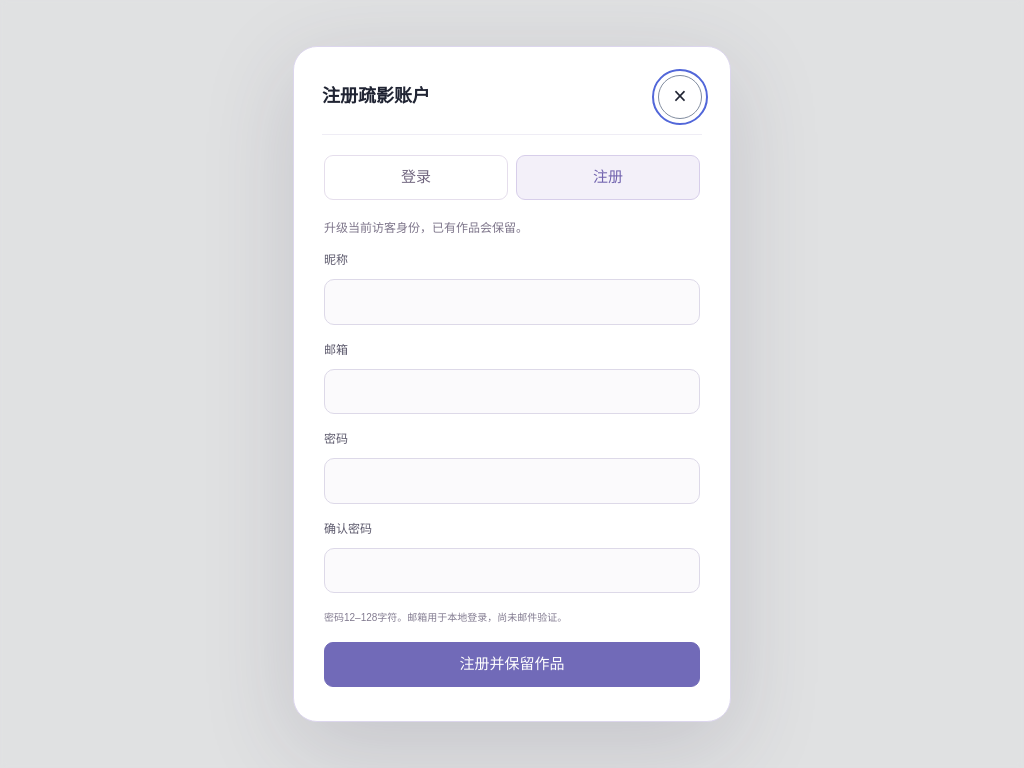
rejects mismatching confirmation before issuing registration
Type "访客升级" into the field labelled "昵称" at (512, 302), box left=324, top=279, right=700, bottom=325
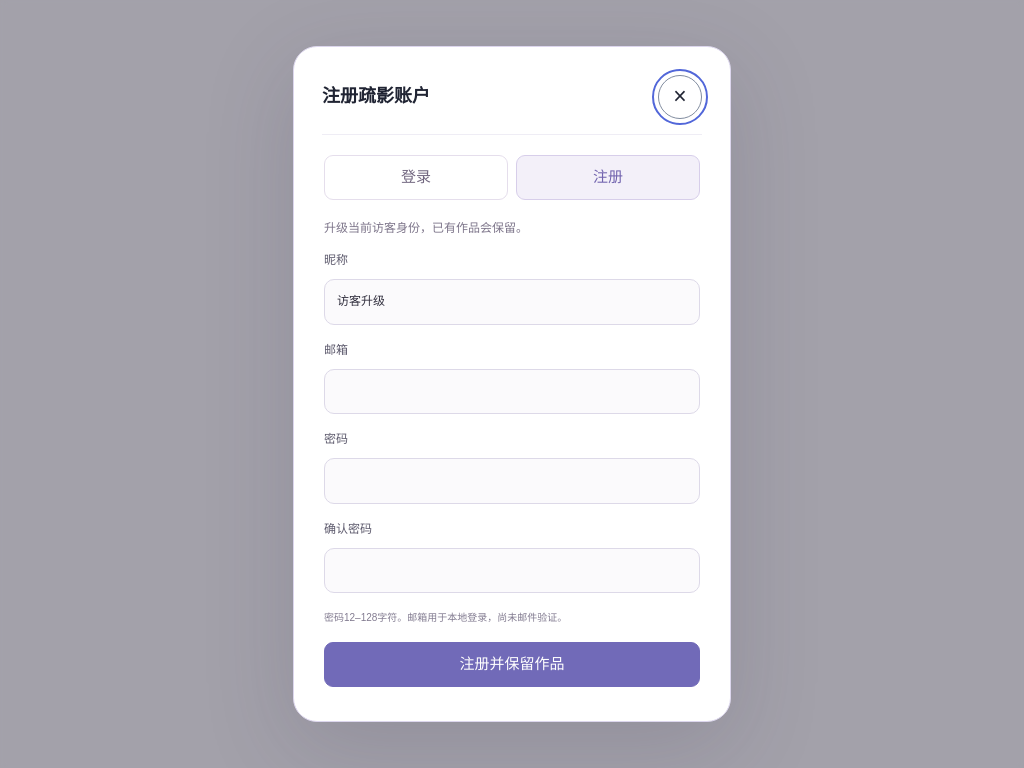
Type "synthetic@example.test" into the field labelled "邮箱" at (512, 391), box left=324, top=368, right=700, bottom=414
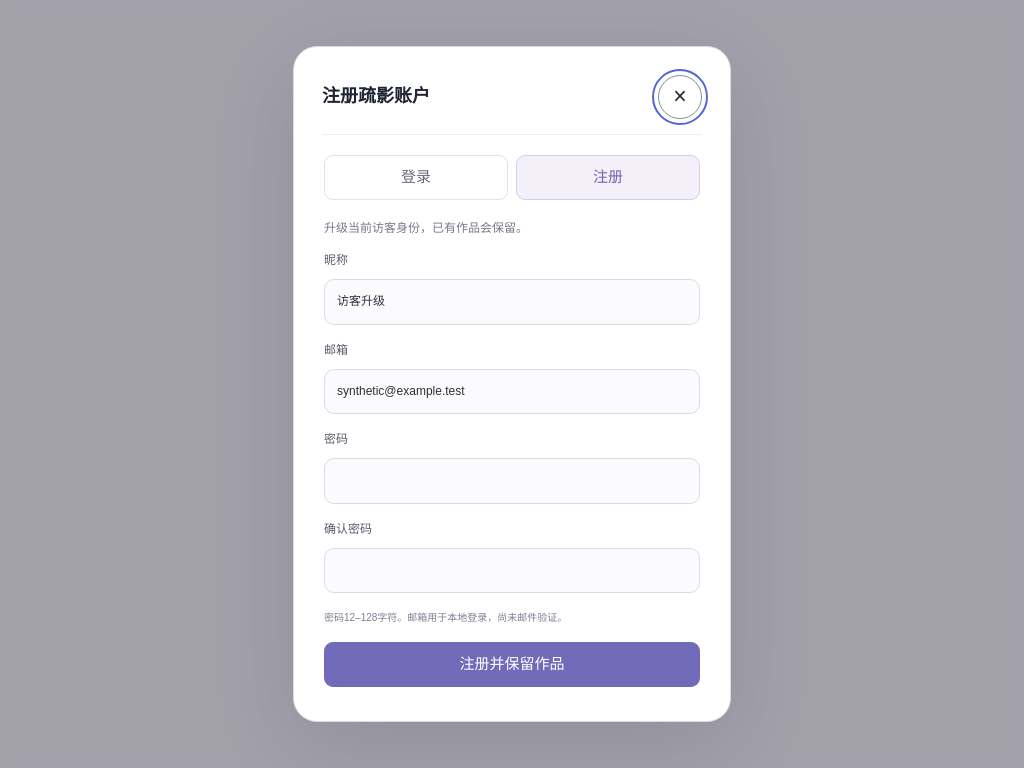
Type "test-password-123" into the password field labelled "密码" at (512, 481), box left=324, top=458, right=700, bottom=504
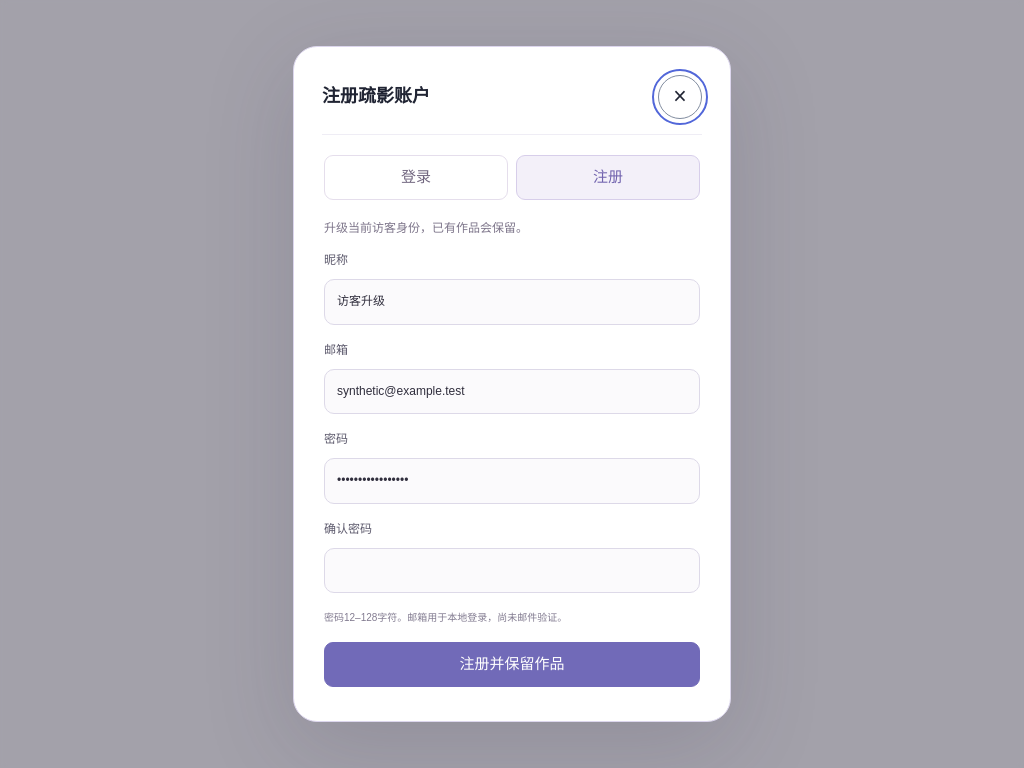
Type "other-password-123" into the password field labelled "确认密码" at (512, 571), box left=324, top=548, right=700, bottom=594
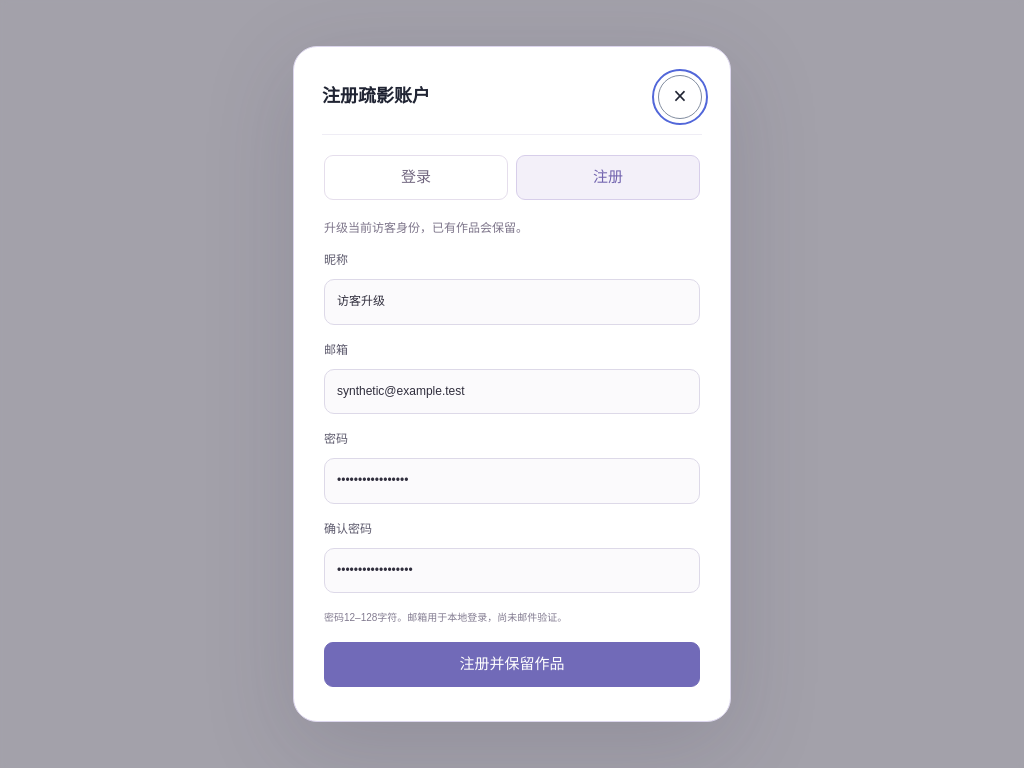
Click the button "注册并保留作品" at (512, 665), box left=324, top=642, right=700, bottom=687
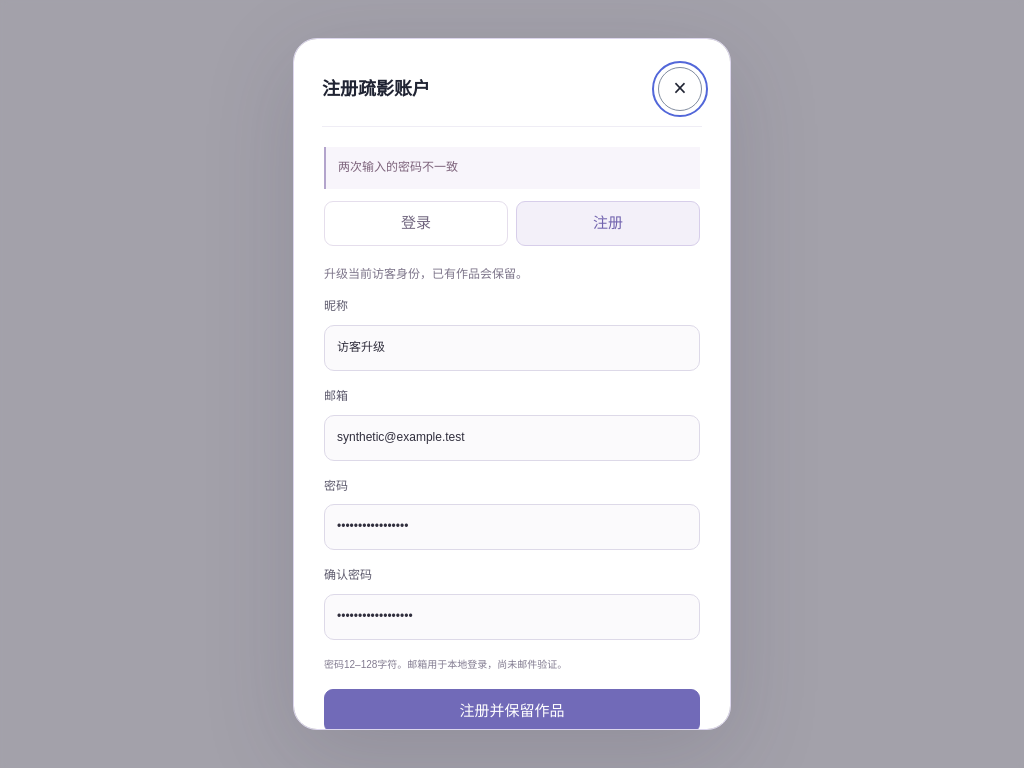
Check: the message reads "两次输入的密码不一致", box left=338, top=160, right=458, bottom=174
